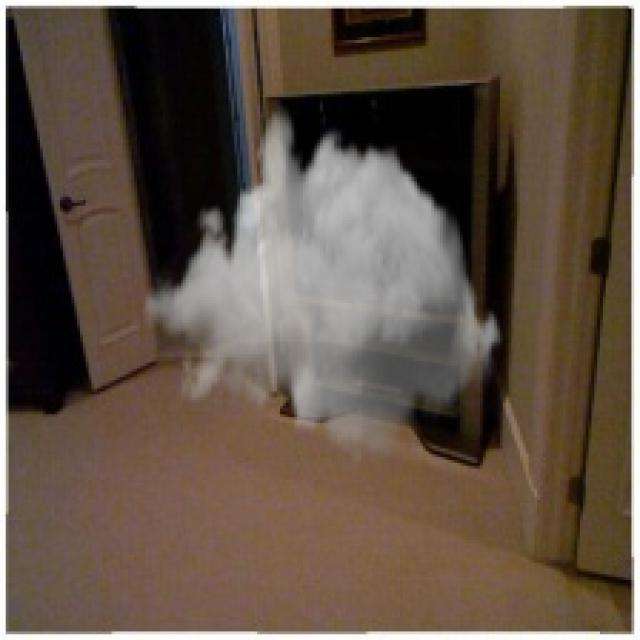smoke: (143, 103, 506, 471)
